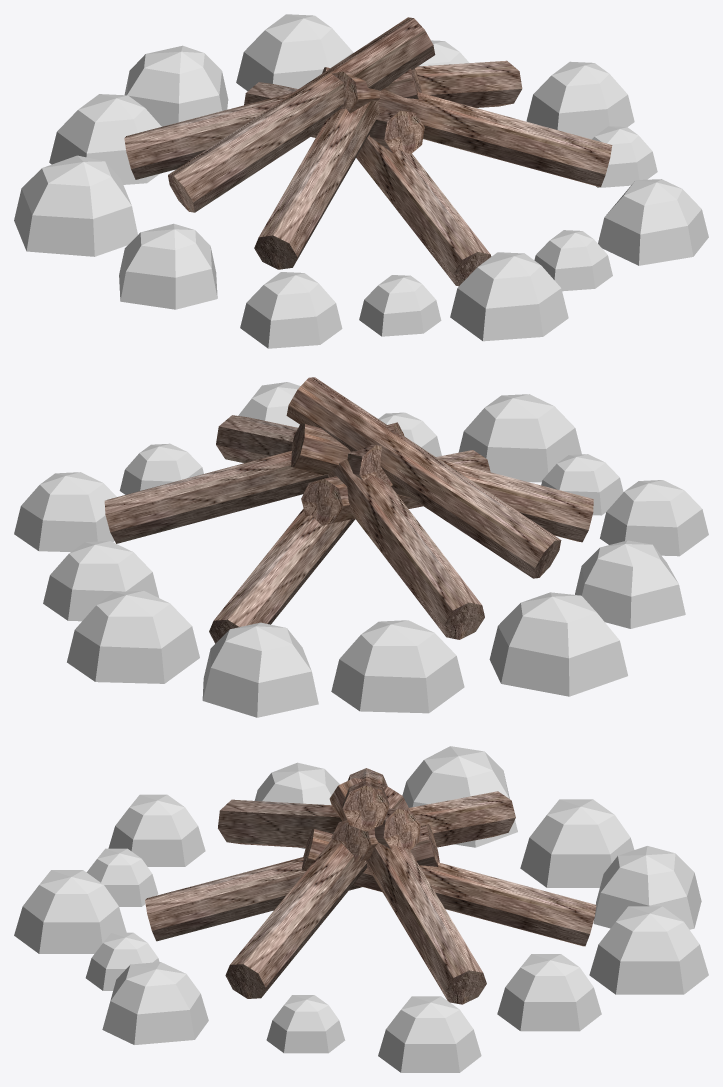
Rendered from koster.fbx.
3 renders of one model, top to bottom at view 1: azimuth 30°, elevation 25°; view 2: azimuth 150°, elevation 25°; view 3: azimuth 270°, elevation 25°, orthographic. The views are drawn at different scales.
Visible parts, largest first — view 1: Cube.002, Sphere.009, Cube.008, Cube.006, Sphere.014, Cube.007, Sphere.001, Sphere.011, Sphere.007, Sphere.006, Sphere.012, Sphere.004 (+8 smaller); view 2: Cube.002, Sphere.009, Cube.001, Sphere.006, Sphere.008, Cube.004, Sphere.007, Sphere.014, Sphere.011, Cube.003, Cube.006, Sphere.004 (+8 smaller); view 3: Cube.008, Cube.001, Cube.003, Sphere.006, Cube.007, Sphere.008, Sphere.014, Sphere.001, Sphere.005, Cube.006, Sphere.004, Sphere.007 (+8 smaller).
Part boxes in pixels (x1,y1,x2,y2): Cube.002: (168, 17, 435, 212); Sphere.009: (14, 155, 137, 256); Cube.008: (322, 67, 612, 186); Cube.006: (254, 100, 379, 269); Sphere.014: (450, 252, 568, 341); Cube.007: (356, 135, 491, 286); Sphere.001: (598, 179, 708, 265); Sphere.011: (119, 223, 217, 309); Sphere.007: (124, 45, 228, 126); Sphere.006: (236, 14, 353, 91); Sphere.012: (240, 272, 342, 348); Sphere.004: (526, 61, 634, 139); Cube.002: (286, 377, 561, 578); Sphere.009: (489, 592, 627, 696); Cube.001: (104, 422, 404, 543); Sphere.006: (67, 590, 199, 683); Sphere.008: (331, 620, 464, 713); Cube.004: (328, 459, 484, 639); Sphere.007: (202, 622, 318, 717); Sphere.014: (458, 394, 581, 482); Sphere.011: (575, 540, 685, 628); Cube.003: (209, 508, 354, 643); Cube.006: (290, 423, 593, 542); Sphere.004: (14, 472, 116, 551); Cube.008: (225, 786, 409, 998); Cube.001: (329, 778, 486, 1004); Cube.003: (301, 829, 596, 946); Sphere.006: (589, 906, 708, 994); Cube.007: (145, 824, 439, 941); Sphere.008: (520, 799, 634, 887); Sphere.014: (14, 870, 126, 953); Sphere.001: (102, 962, 208, 1044); Sphere.005: (497, 954, 601, 1031); Cube.006: (218, 799, 420, 850); Sphere.004: (378, 996, 481, 1072); Sphere.007: (593, 846, 701, 929).
Size of the model in its own units: 368 by 108 by 382.
Materials: 1 (1 with a texture image).
